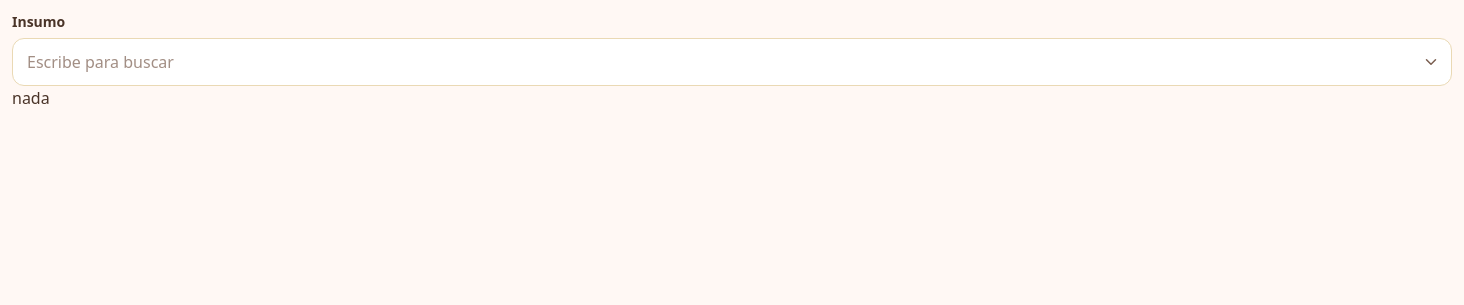
Scenario: Buscador › al enfocar muestra toda la lista
What coordinates should you click on to do the following:
click the dropdown labelled "Insumo"
I would click on:
 (732, 62)
Its box is [12, 38, 1452, 86].
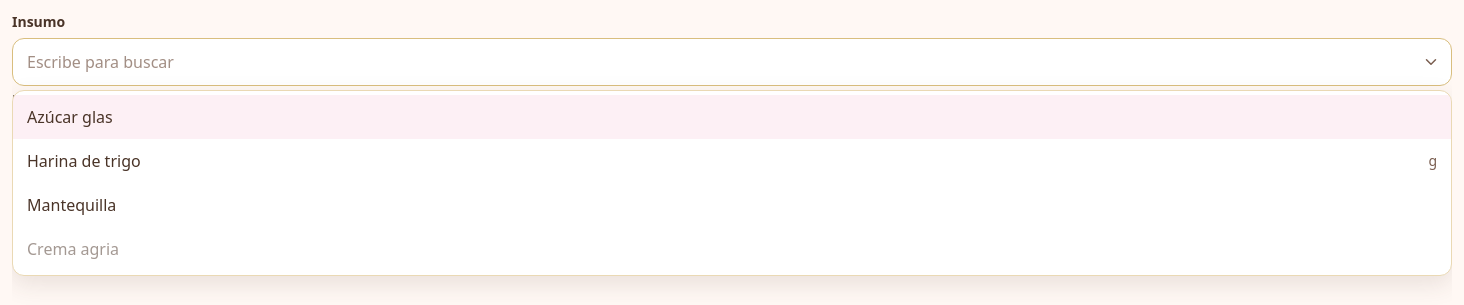
expect the number of options is 4: met, box [13, 95, 1451, 139]; [27, 150, 1437, 172]; [27, 194, 116, 216]; [27, 238, 119, 260]
